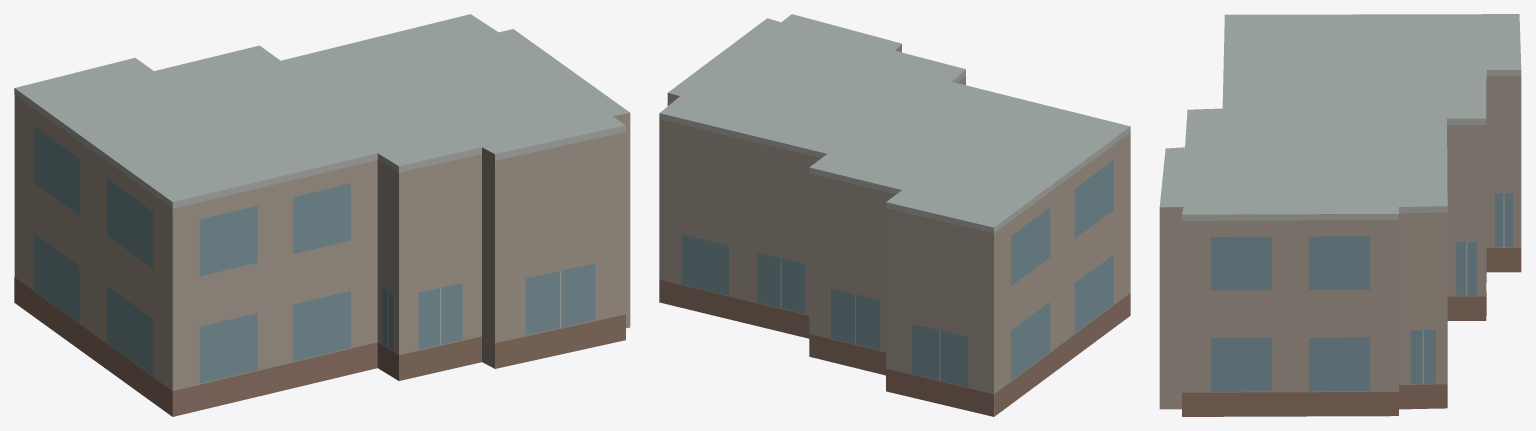
The model's file is survey-upis-32471620.glb.
The picture shows the model from 3 angles, left to right: view 1: azimuth 30°, elevation 25°; view 2: azimuth 150°, elevation 25°; view 3: azimuth 270°, elevation 25°; orthographic projection. The views are drawn at different scales.
Parts seen in each view (by area): view 1: survey-upis-32471620.tmp; view 2: survey-upis-32471620.tmp; view 3: survey-upis-32471620.tmp.
Boxes of the visible parts, box(x1,y1,x2,y2) form: survey-upis-32471620.tmp: box(14, 14, 630, 416); survey-upis-32471620.tmp: box(659, 14, 1130, 416); survey-upis-32471620.tmp: box(1159, 14, 1521, 416).
Bounding box in the file's own units: 16.71 × 7.85 × 12.74.
